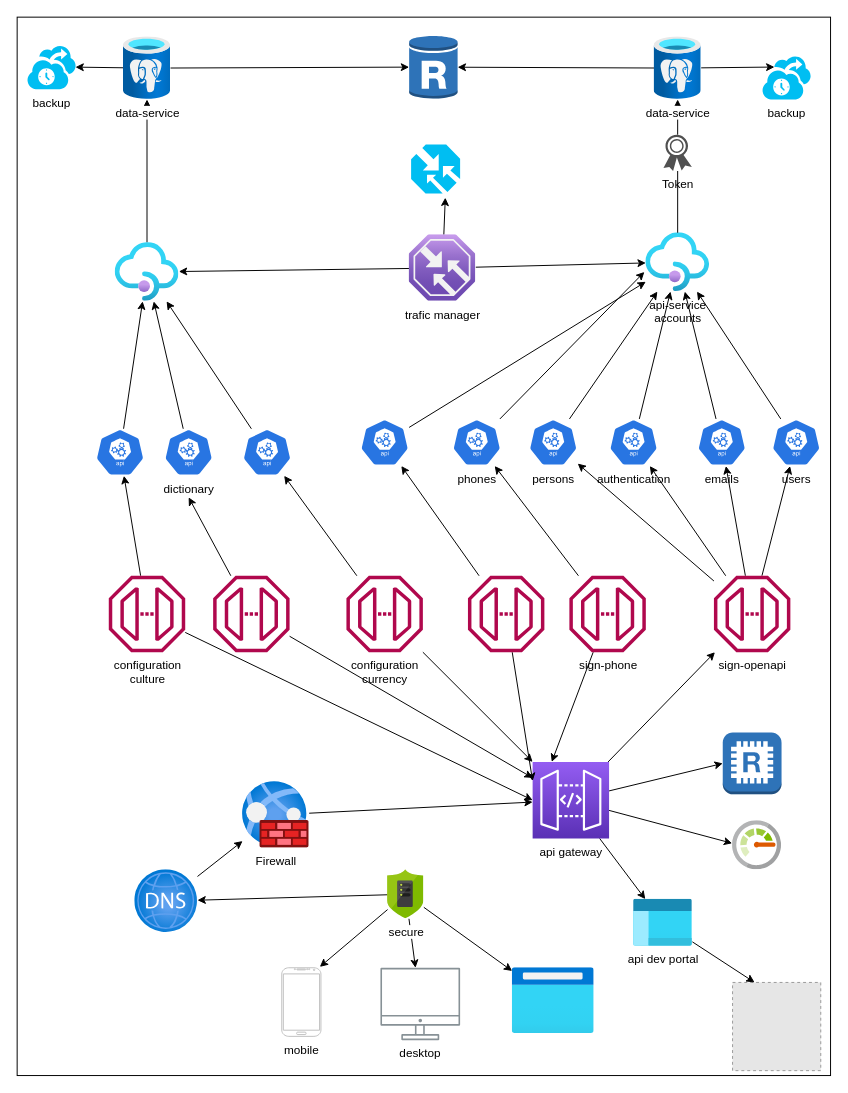
Some shapes in this 848 by 1093 pixel diagram are drawn without their labels. Grey dashed boxes stand in for pictures. Here are the shapes that lost their labels. From the top down, the box of each, then its label:
(408, 34, 458, 99): replica
(411, 144, 460, 193): trafic balancer
(115, 242, 178, 301): api-service configurations
(95, 428, 145, 476): culture
(242, 428, 292, 476): currency
(359, 418, 409, 466): passwords
(213, 575, 289, 652): configuration dictionary
(467, 575, 544, 652): sign-password
(722, 732, 782, 794): redis
(732, 820, 781, 869): monitor
(134, 869, 197, 932): api donmain
(512, 967, 594, 1033): browser
